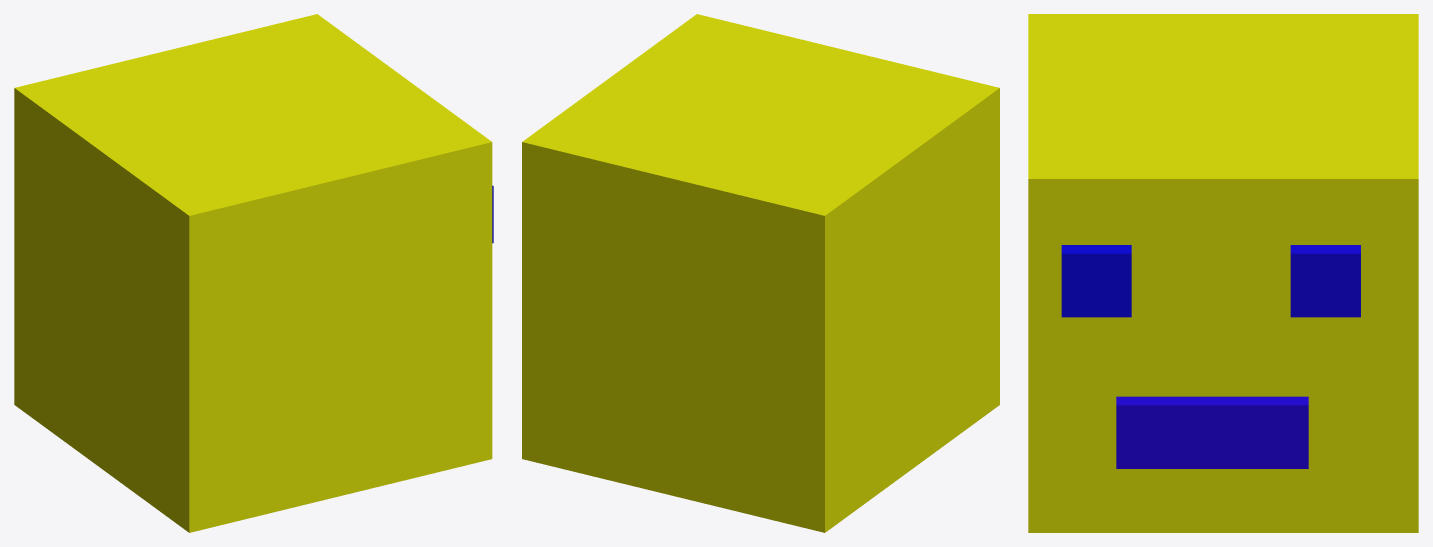
The picture shows the model from 3 angles, left to right: view 1: azimuth 30°, elevation 25°; view 2: azimuth 150°, elevation 25°; view 3: azimuth 270°, elevation 25°; orthographic projection. The views are drawn at different scales.
Parts seen in each view (by area): view 1: Cube; view 2: Cube; view 3: Cube, Cubo.002, Cubo, Cubo.001.
Boxes of the visible parts, x1=… form: Cube: x1=14, y1=14, x2=492, y2=532; Cube: x1=522, y1=14, x2=999, y2=532; Cube: x1=1028, y1=14, x2=1418, y2=532; Cubo.002: x1=1116, y1=396, x2=1308, y2=468; Cubo: x1=1061, y1=245, x2=1131, y2=317; Cubo.001: x1=1290, y1=245, x2=1360, y2=317.
Size of the model in its own units: 2.11 by 2 by 2.
